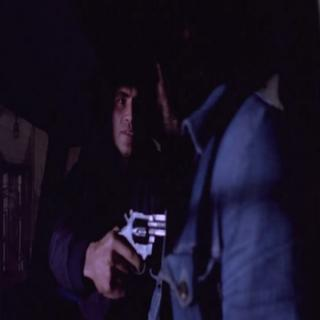gun: (109, 200, 174, 281)
